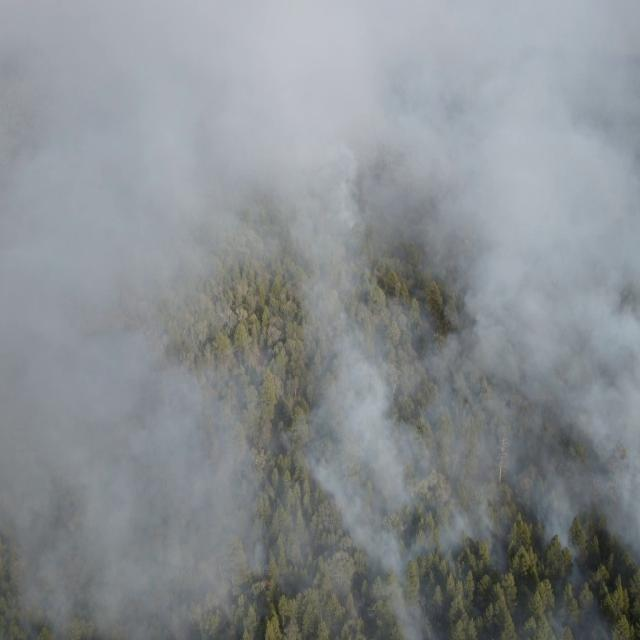fire: (263, 579, 272, 589)
smoke: (150, 1, 640, 263), (282, 263, 640, 555), (0, 0, 152, 640), (150, 352, 265, 640), (308, 551, 436, 640), (152, 258, 225, 354), (538, 555, 611, 640)
